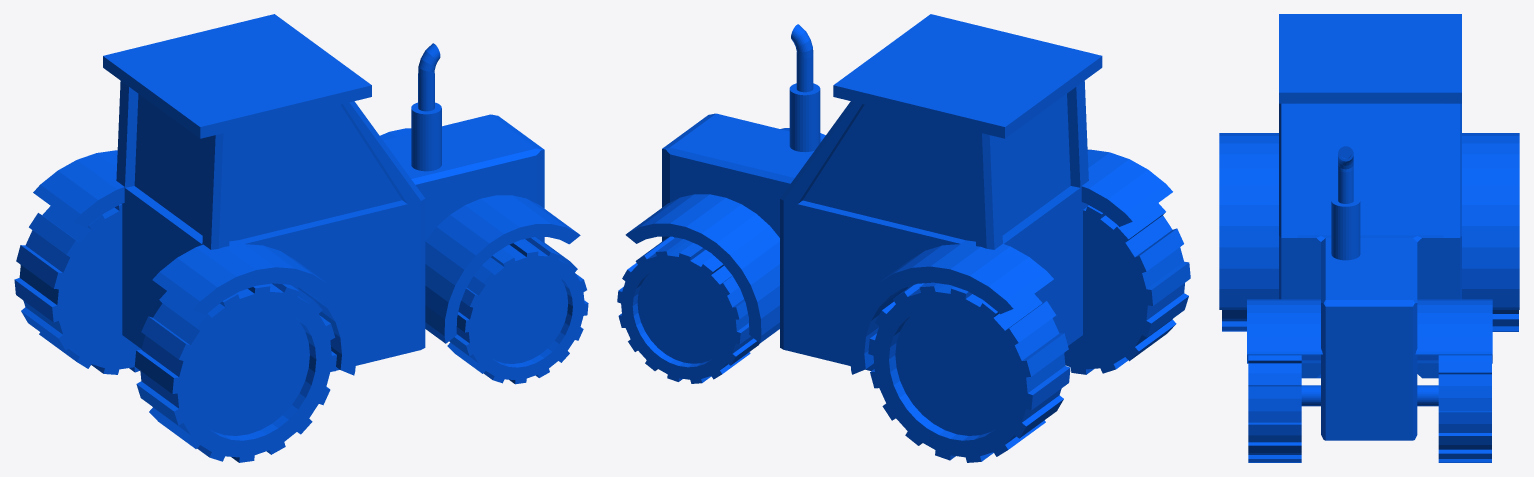
File: TractorBlue.fbx
The picture shows the model from 3 angles, left to right: view 1: azimuth 30°, elevation 25°; view 2: azimuth 150°, elevation 25°; view 3: azimuth 270°, elevation 25°; orthographic projection. The views are drawn at different scales.
Parts seen in each view (by area): view 1: Tractor, TractorRearWheelR, TractorWheelRearL, TractorFrontWheelR, TractorMudGuardFrontR, TractorMudGardRR, RearWheel, TractorExhaust; view 2: Tractor, TractorWheelRearL, TractorRearWheelR, TractorWheelFrontL, TractorMudGardFrontL, RearWheel, TractorMudGardRR, TractorExhaust; view 3: Tractor, TractorMudGardRR, RearWheel, TractorFrontWheelR, TractorWheelFrontL, TractorMudGardFrontL, TractorMudGuardFrontR, TractorExhaust, TractorAxel, TractorWheelRearL, TractorRearWheelR.
Boxes of the visible parts, x1,y1,x2,y2 form: Tractor: [103, 14, 544, 371]; TractorRearWheelR: [134, 283, 336, 462]; TractorWheelRearL: [14, 204, 141, 374]; TractorFrontWheelR: [447, 237, 588, 384]; TractorMudGuardFrontR: [425, 195, 580, 343]; TractorMudGardRR: [152, 240, 356, 375]; RearWheel: [33, 150, 124, 227]; TractorExhaust: [411, 43, 441, 171]; Tractor: [662, 14, 1102, 370]; TractorWheelRearL: [868, 282, 1070, 462]; TractorRearWheelR: [1064, 203, 1190, 374]; TractorWheelFrontL: [617, 236, 759, 383]; TractorMudGardFrontL: [625, 194, 779, 343]; RearWheel: [849, 240, 1053, 374]; TractorMudGardRR: [1081, 149, 1172, 226]; TractorExhaust: [789, 24, 820, 152]; Tractor: [1279, 14, 1461, 440]; TractorMudGardRR: [1219, 133, 1278, 309]; RearWheel: [1462, 133, 1519, 309]; TractorFrontWheelR: [1248, 355, 1301, 462]; TractorWheelFrontL: [1438, 355, 1491, 462]; TractorMudGardFrontL: [1415, 299, 1492, 363]; TractorMudGuardFrontR: [1247, 299, 1322, 363]; TractorExhaust: [1331, 146, 1360, 260]; TractorAxel: [1301, 385, 1438, 406]; TractorWheelRearL: [1492, 310, 1518, 331]; TractorRearWheelR: [1222, 310, 1246, 331].
Size of the model in its own units: 604 by 428 by 388.
